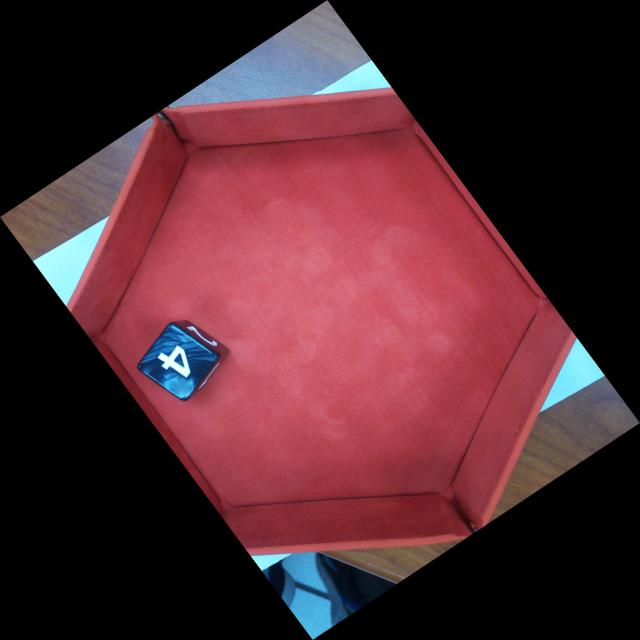dice: (134, 321, 222, 403)
